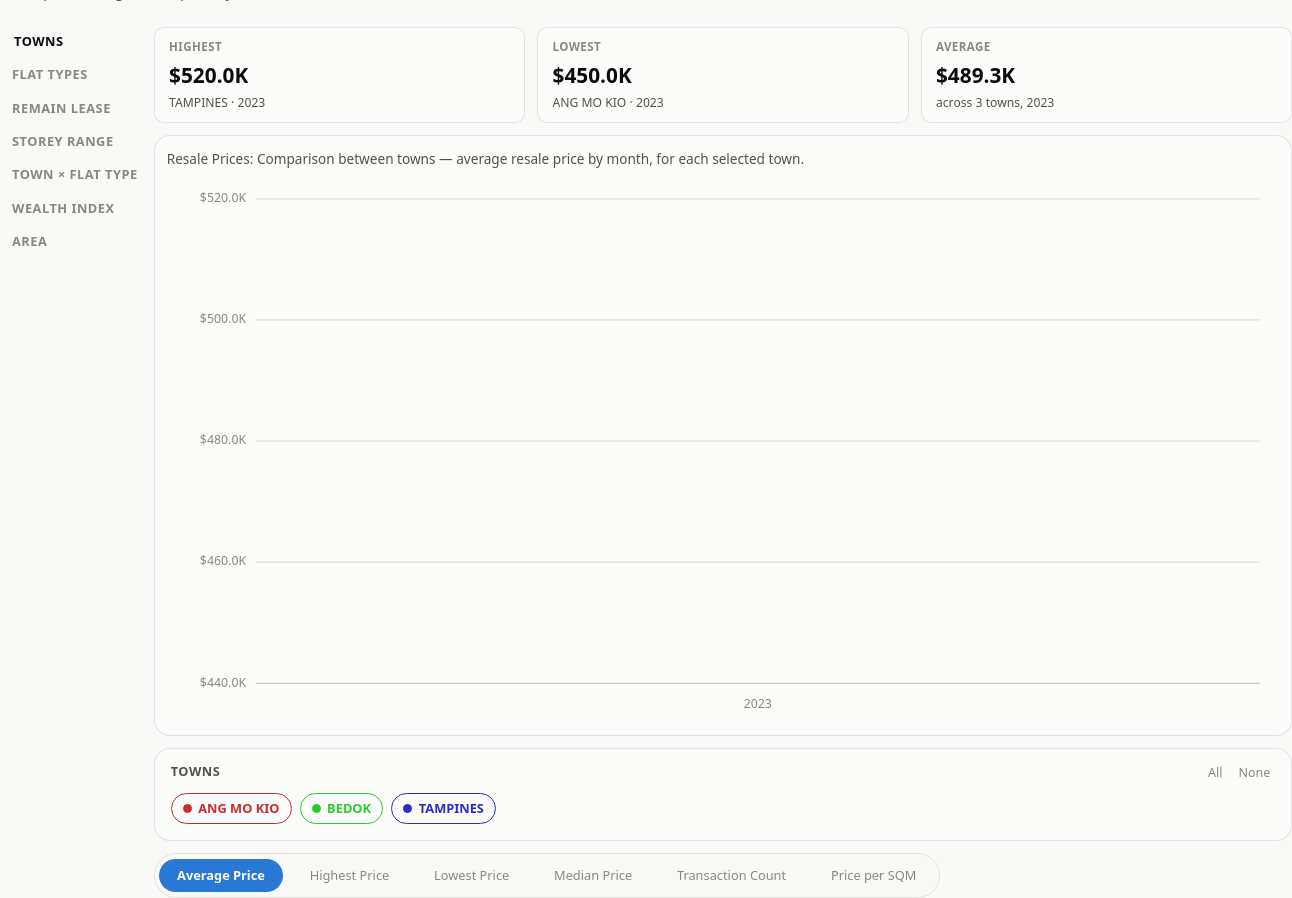
it: InsightsPage › switches the Towns chart to the lowest price view via the metric toggle
(page scrolled)
Expected: the button "BEDOK" is shown, [300,793,383,824]
Click the button "Lowest Price": (472, 876) [416,859,527,892]
(page scrolled)
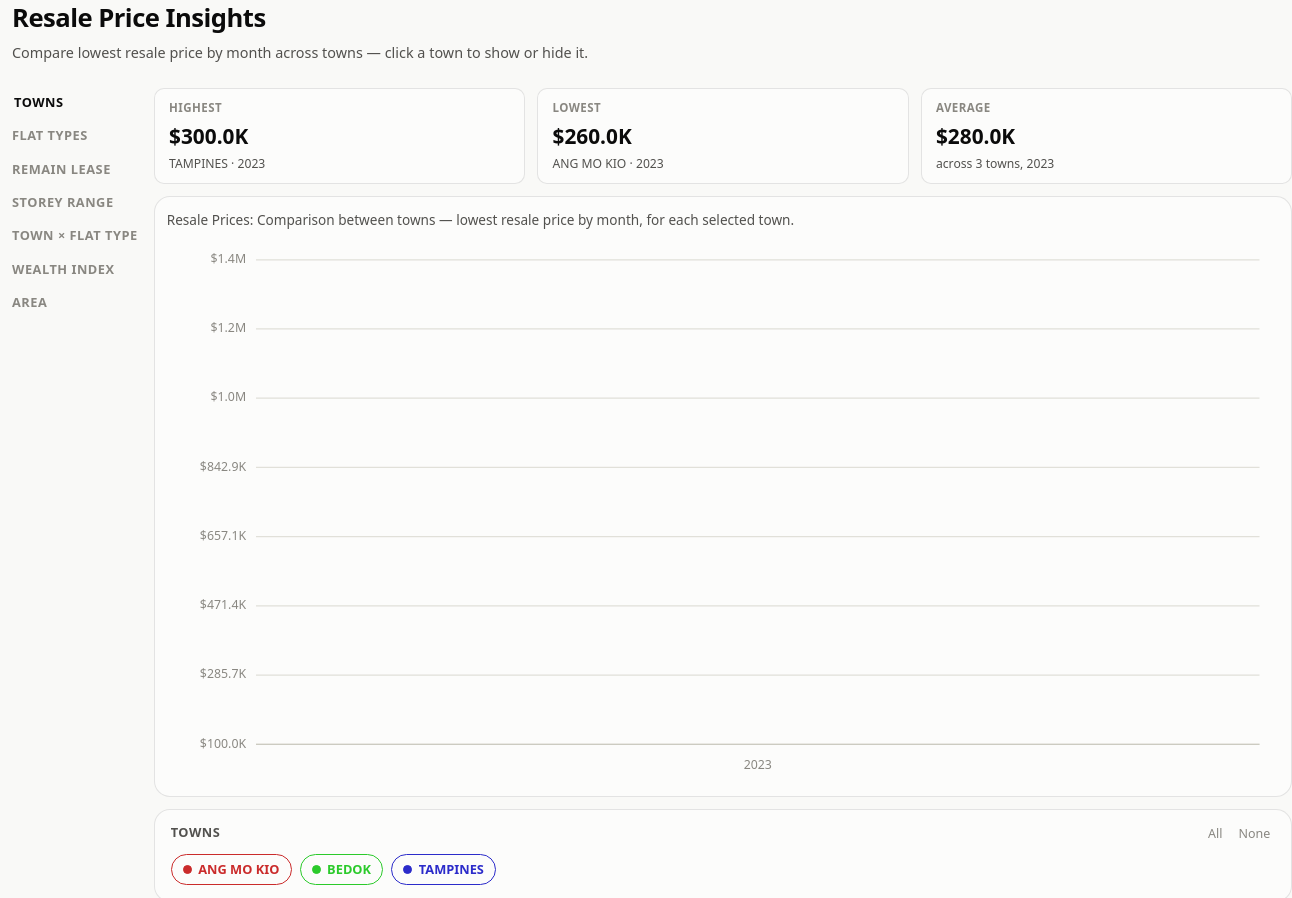
Result: the picture named "lowest resale price comparison between towns" is shown at [167,240,1279,784]
